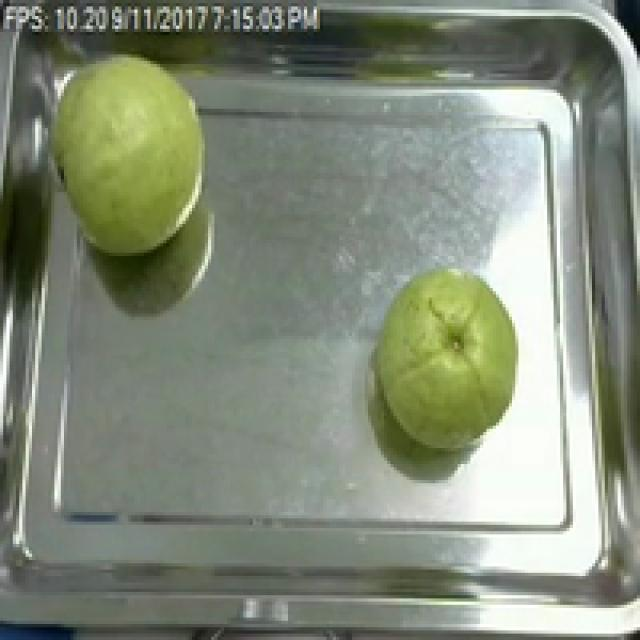Fruit: (42, 42, 220, 266), (365, 259, 531, 461)
